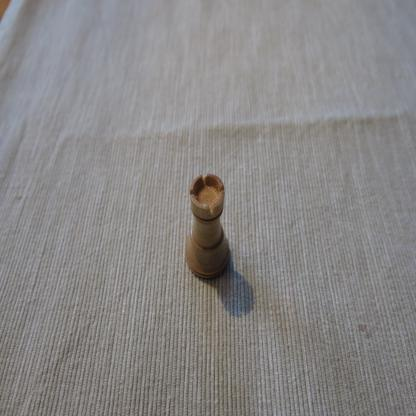white-rook: (184, 172, 230, 282)
